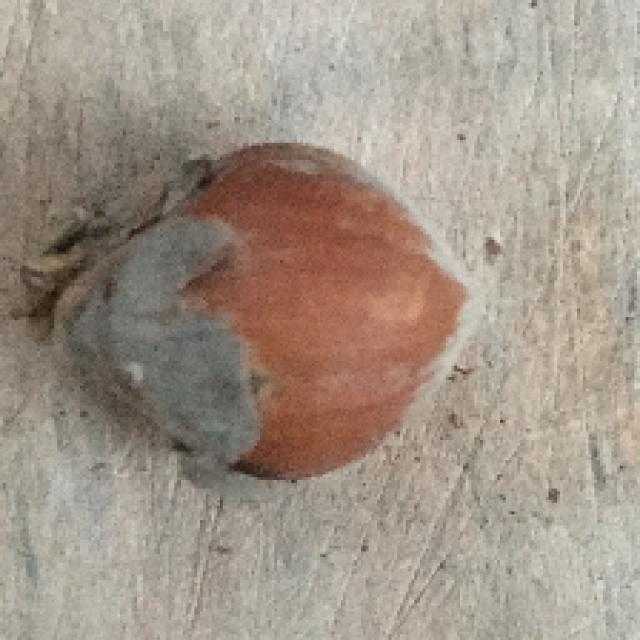DamagedHazelnut: (32, 143, 488, 478)
